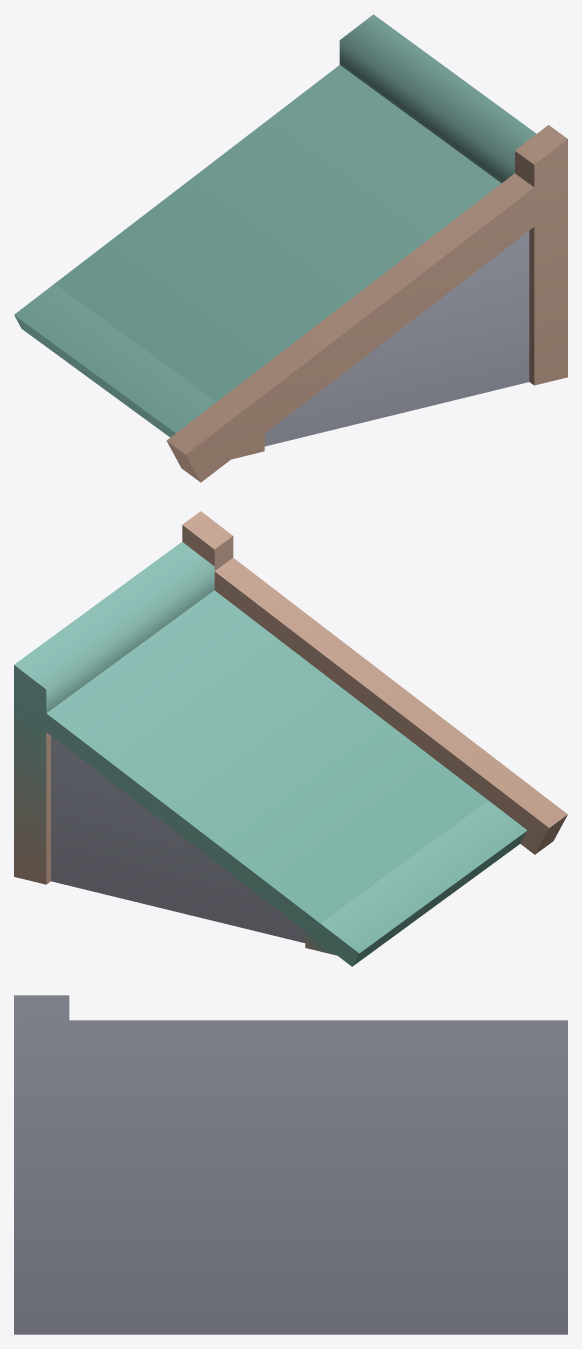
Rendered from roof-right.glb.
The picture shows the model from 3 angles, top to bottom: view 1: azimuth 30°, elevation 25°; view 2: azimuth 150°, elevation 25°; view 3: azimuth 270°, elevation 25°; orthographic projection. The views are drawn at different scales.
Visible parts, largest first — view 1: roof-right; view 2: roof-right; view 3: roof-right.
Boxes of the visible parts, x1=… form: roof-right: x1=14, y1=14, x2=567, y2=482; roof-right: x1=14, y1=511, x2=567, y2=966; roof-right: x1=14, y1=995, x2=567, y2=1334.
Bounding box in the file's own units: 1.13 × 0.7206 × 1.
